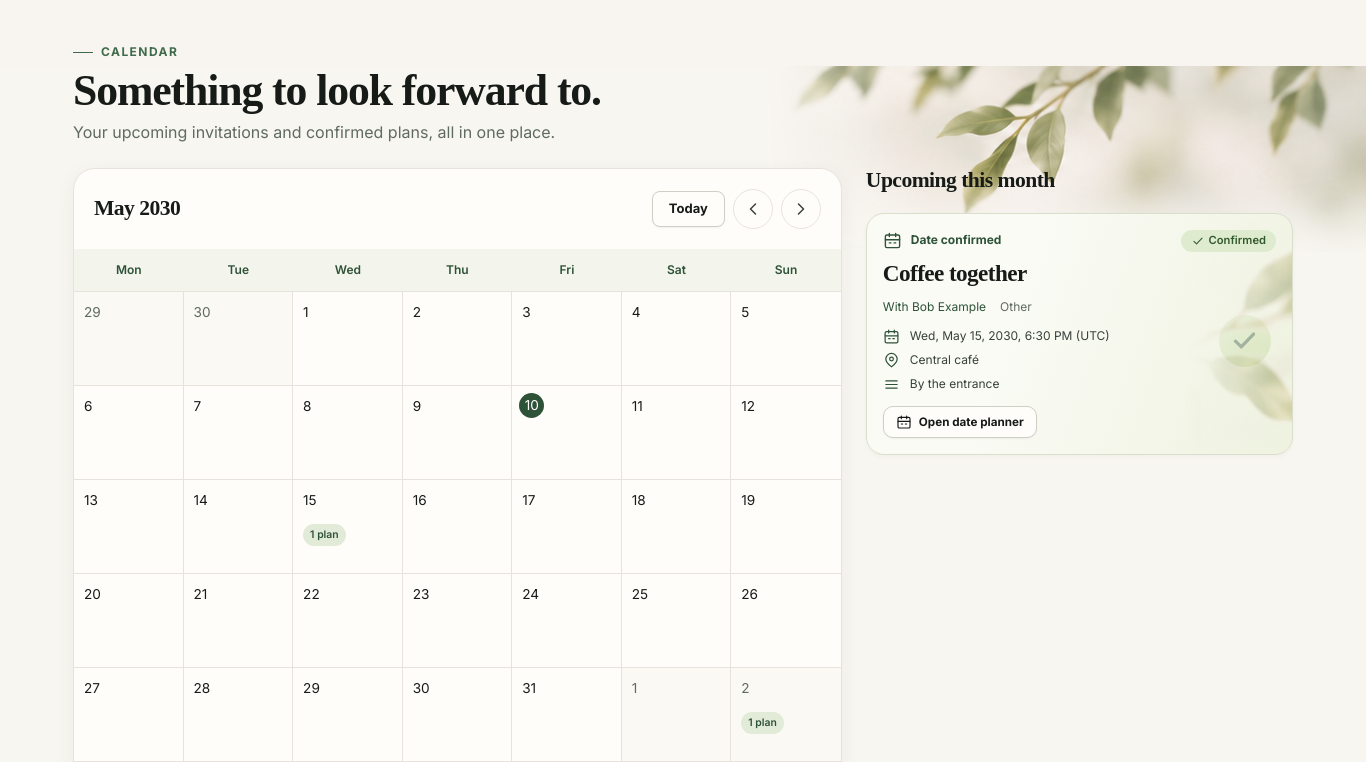
Scenario: month navigation shows the right plans and Today returns to this month
This screenshot has width=1366, height=762.
Click the button named "Next month": (801, 209) 781,189 -> 821,229
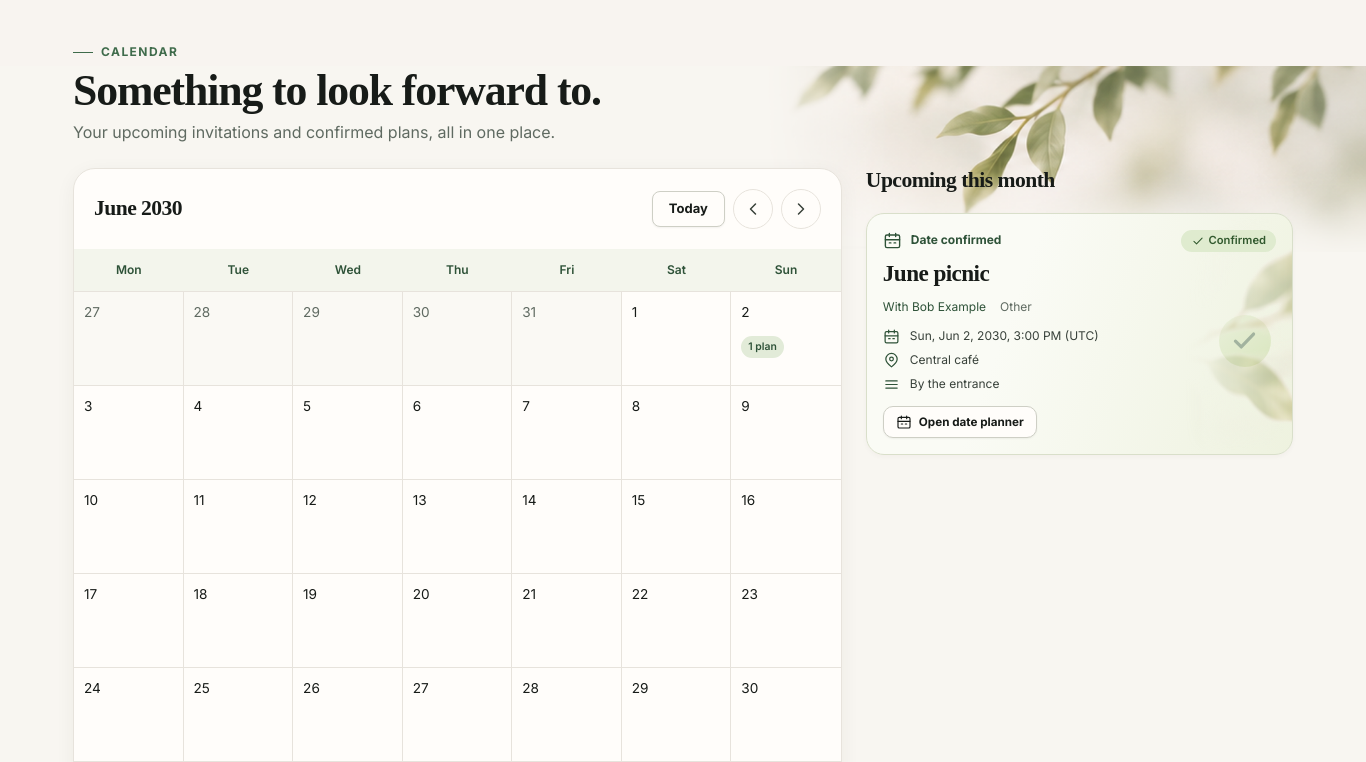
Now the heading "June picnic" is shown, box 883,260 -> 989,286
Now the heading "Coffee together" is gone
Click the button "Today": (688, 209) 652,191 -> 725,227
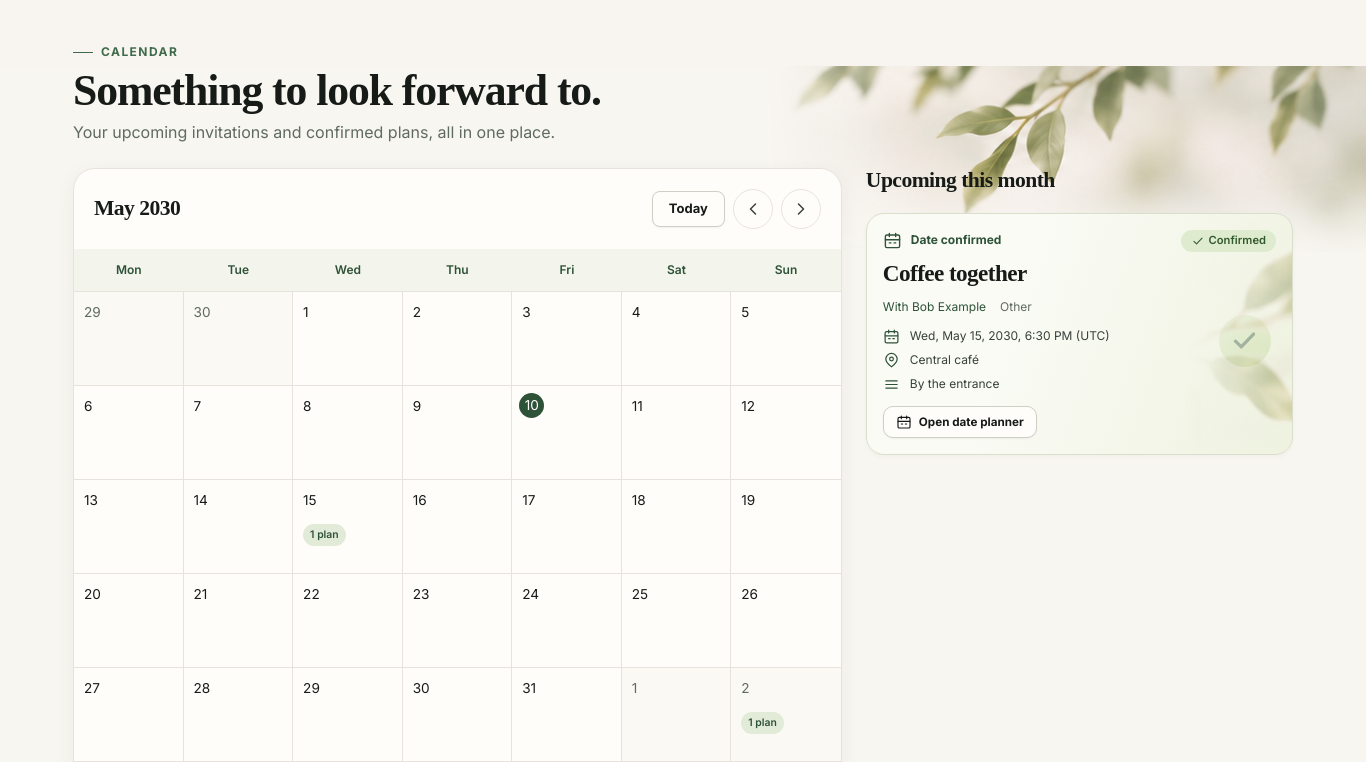
Now the heading "Coffee together" is shown, box 883,260 -> 1027,286
